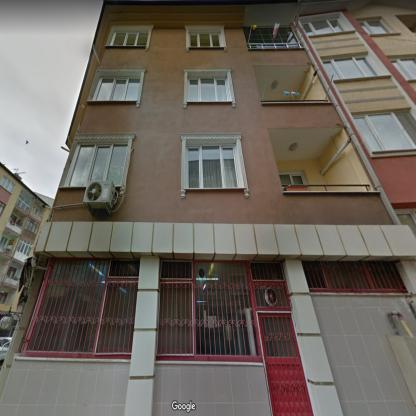door: (256, 310, 313, 415)
window: (156, 262, 289, 362), (27, 259, 139, 352), (302, 263, 408, 292), (64, 142, 127, 186), (352, 112, 416, 153), (186, 143, 240, 188), (323, 55, 382, 81), (92, 77, 140, 100), (187, 76, 230, 100), (302, 18, 349, 36), (250, 26, 298, 43), (394, 209, 415, 237), (390, 57, 415, 80), (110, 31, 148, 46), (358, 20, 393, 34), (189, 32, 221, 47), (13, 238, 33, 262), (22, 217, 40, 240), (16, 190, 33, 212), (279, 173, 305, 185), (0, 176, 14, 193), (7, 267, 16, 278), (244, 26, 250, 42), (1, 238, 7, 252), (1, 292, 8, 302), (1, 202, 5, 214)
